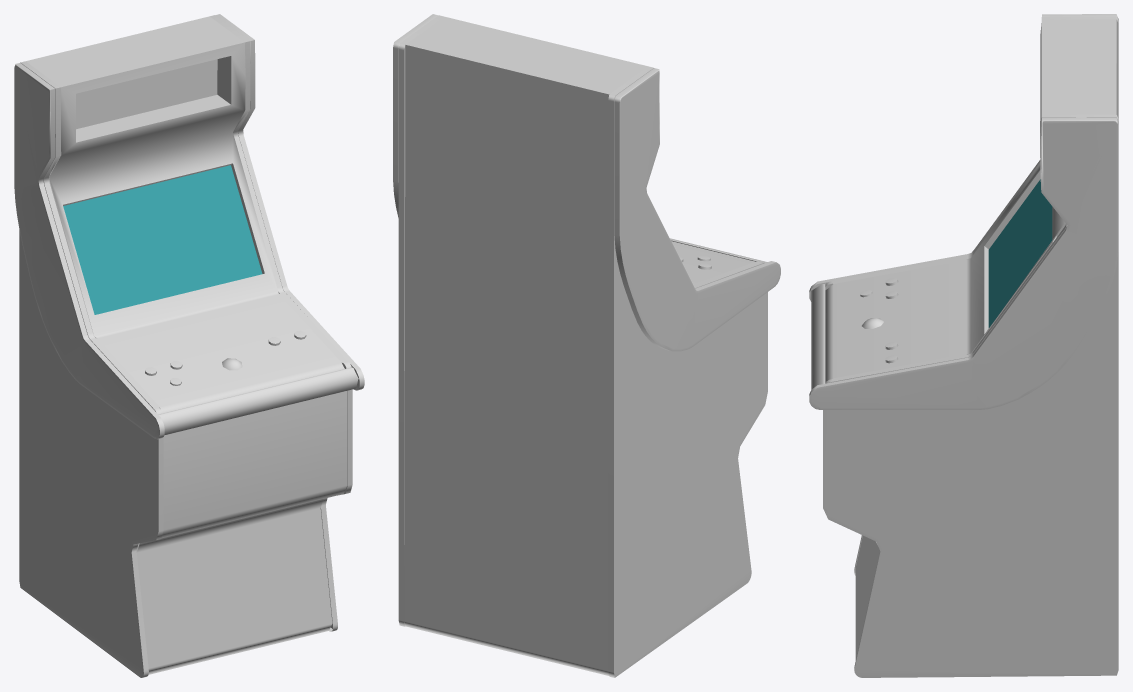
File: human-electronics-arcade-machine_v3.glb
3 renders of one model, left to right at view 1: azimuth 30°, elevation 25°; view 2: azimuth 150°, elevation 25°; view 3: azimuth 270°, elevation 25°, orthographic. The views are drawn at different scales.
Visible parts, largest first — view 1: Arcade Machine_v3; view 2: Arcade Machine_v3; view 3: Arcade Machine_v3.
Part boxes in pixels (box(x1,y1,x2,y2)): Arcade Machine_v3: box(14, 14, 364, 677); Arcade Machine_v3: box(393, 14, 780, 677); Arcade Machine_v3: box(809, 14, 1118, 677).
Bounding box in the file's own units: 0.7324 × 1.8 × 0.9007.
